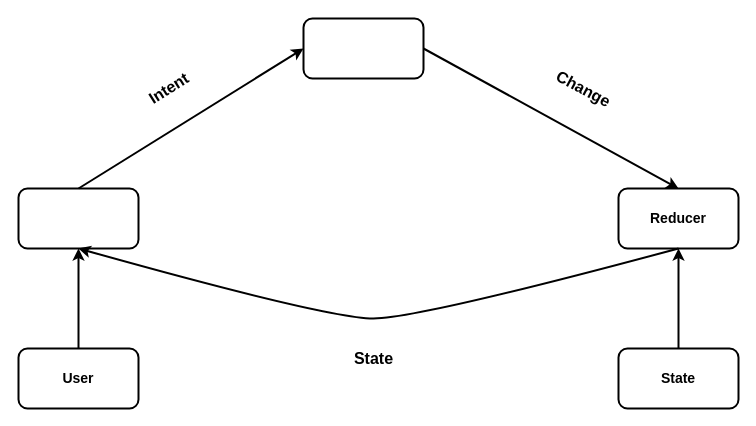
Image size: 756x426. Some labels were removed from this diagram. Here are the shapes that lost their labels. From the top down, the box of each, then its label:
(302, 17, 424, 79): Action
(17, 187, 139, 249): View
